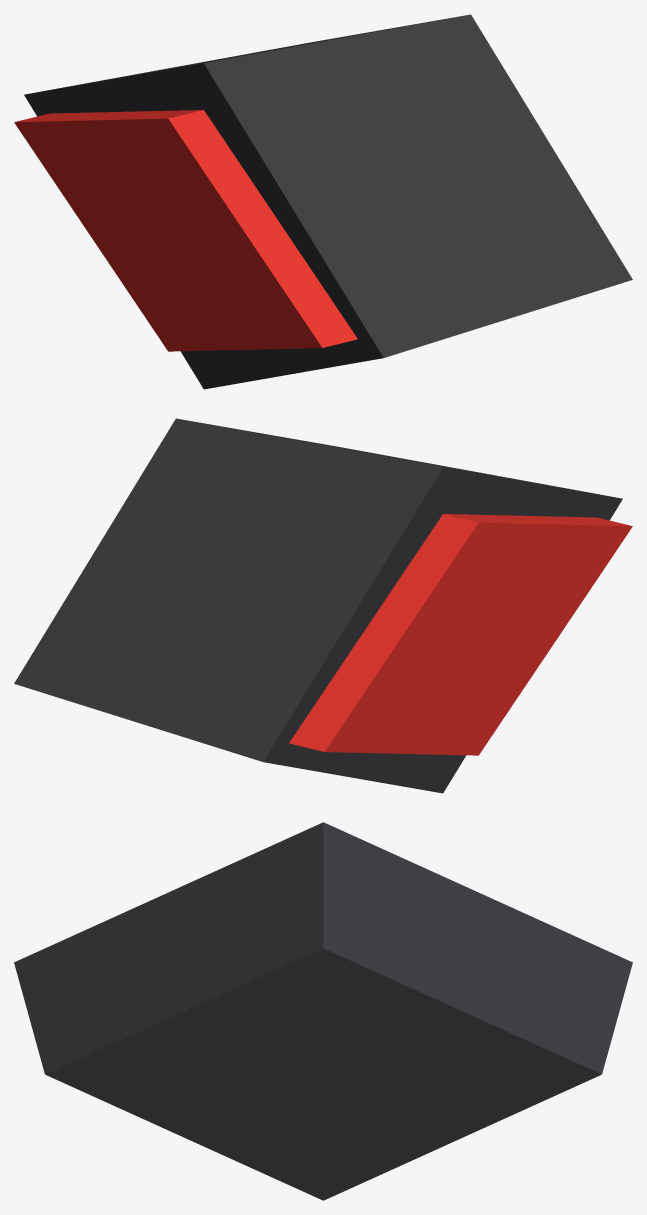
Rendered from led_lod2.glb.
The picture shows the model from 3 angles, top to bottom: view 1: azimuth 30°, elevation 25°; view 2: azimuth 150°, elevation 25°; view 3: azimuth 270°, elevation 25°; orthographic projection. The views are drawn at different scales.
Parts seen in each view (by area): view 1: led_lod2; view 2: led_lod2; view 3: led_lod2.
Boxes of the visible parts, left/top/right/bottom form: led_lod2: left=14, top=14, right=632, bottom=389; led_lod2: left=14, top=418, right=632, bottom=793; led_lod2: left=14, top=822, right=632, bottom=1200.
Bounding box in the file's own units: 0.034 × 0.035 × 0.07.
